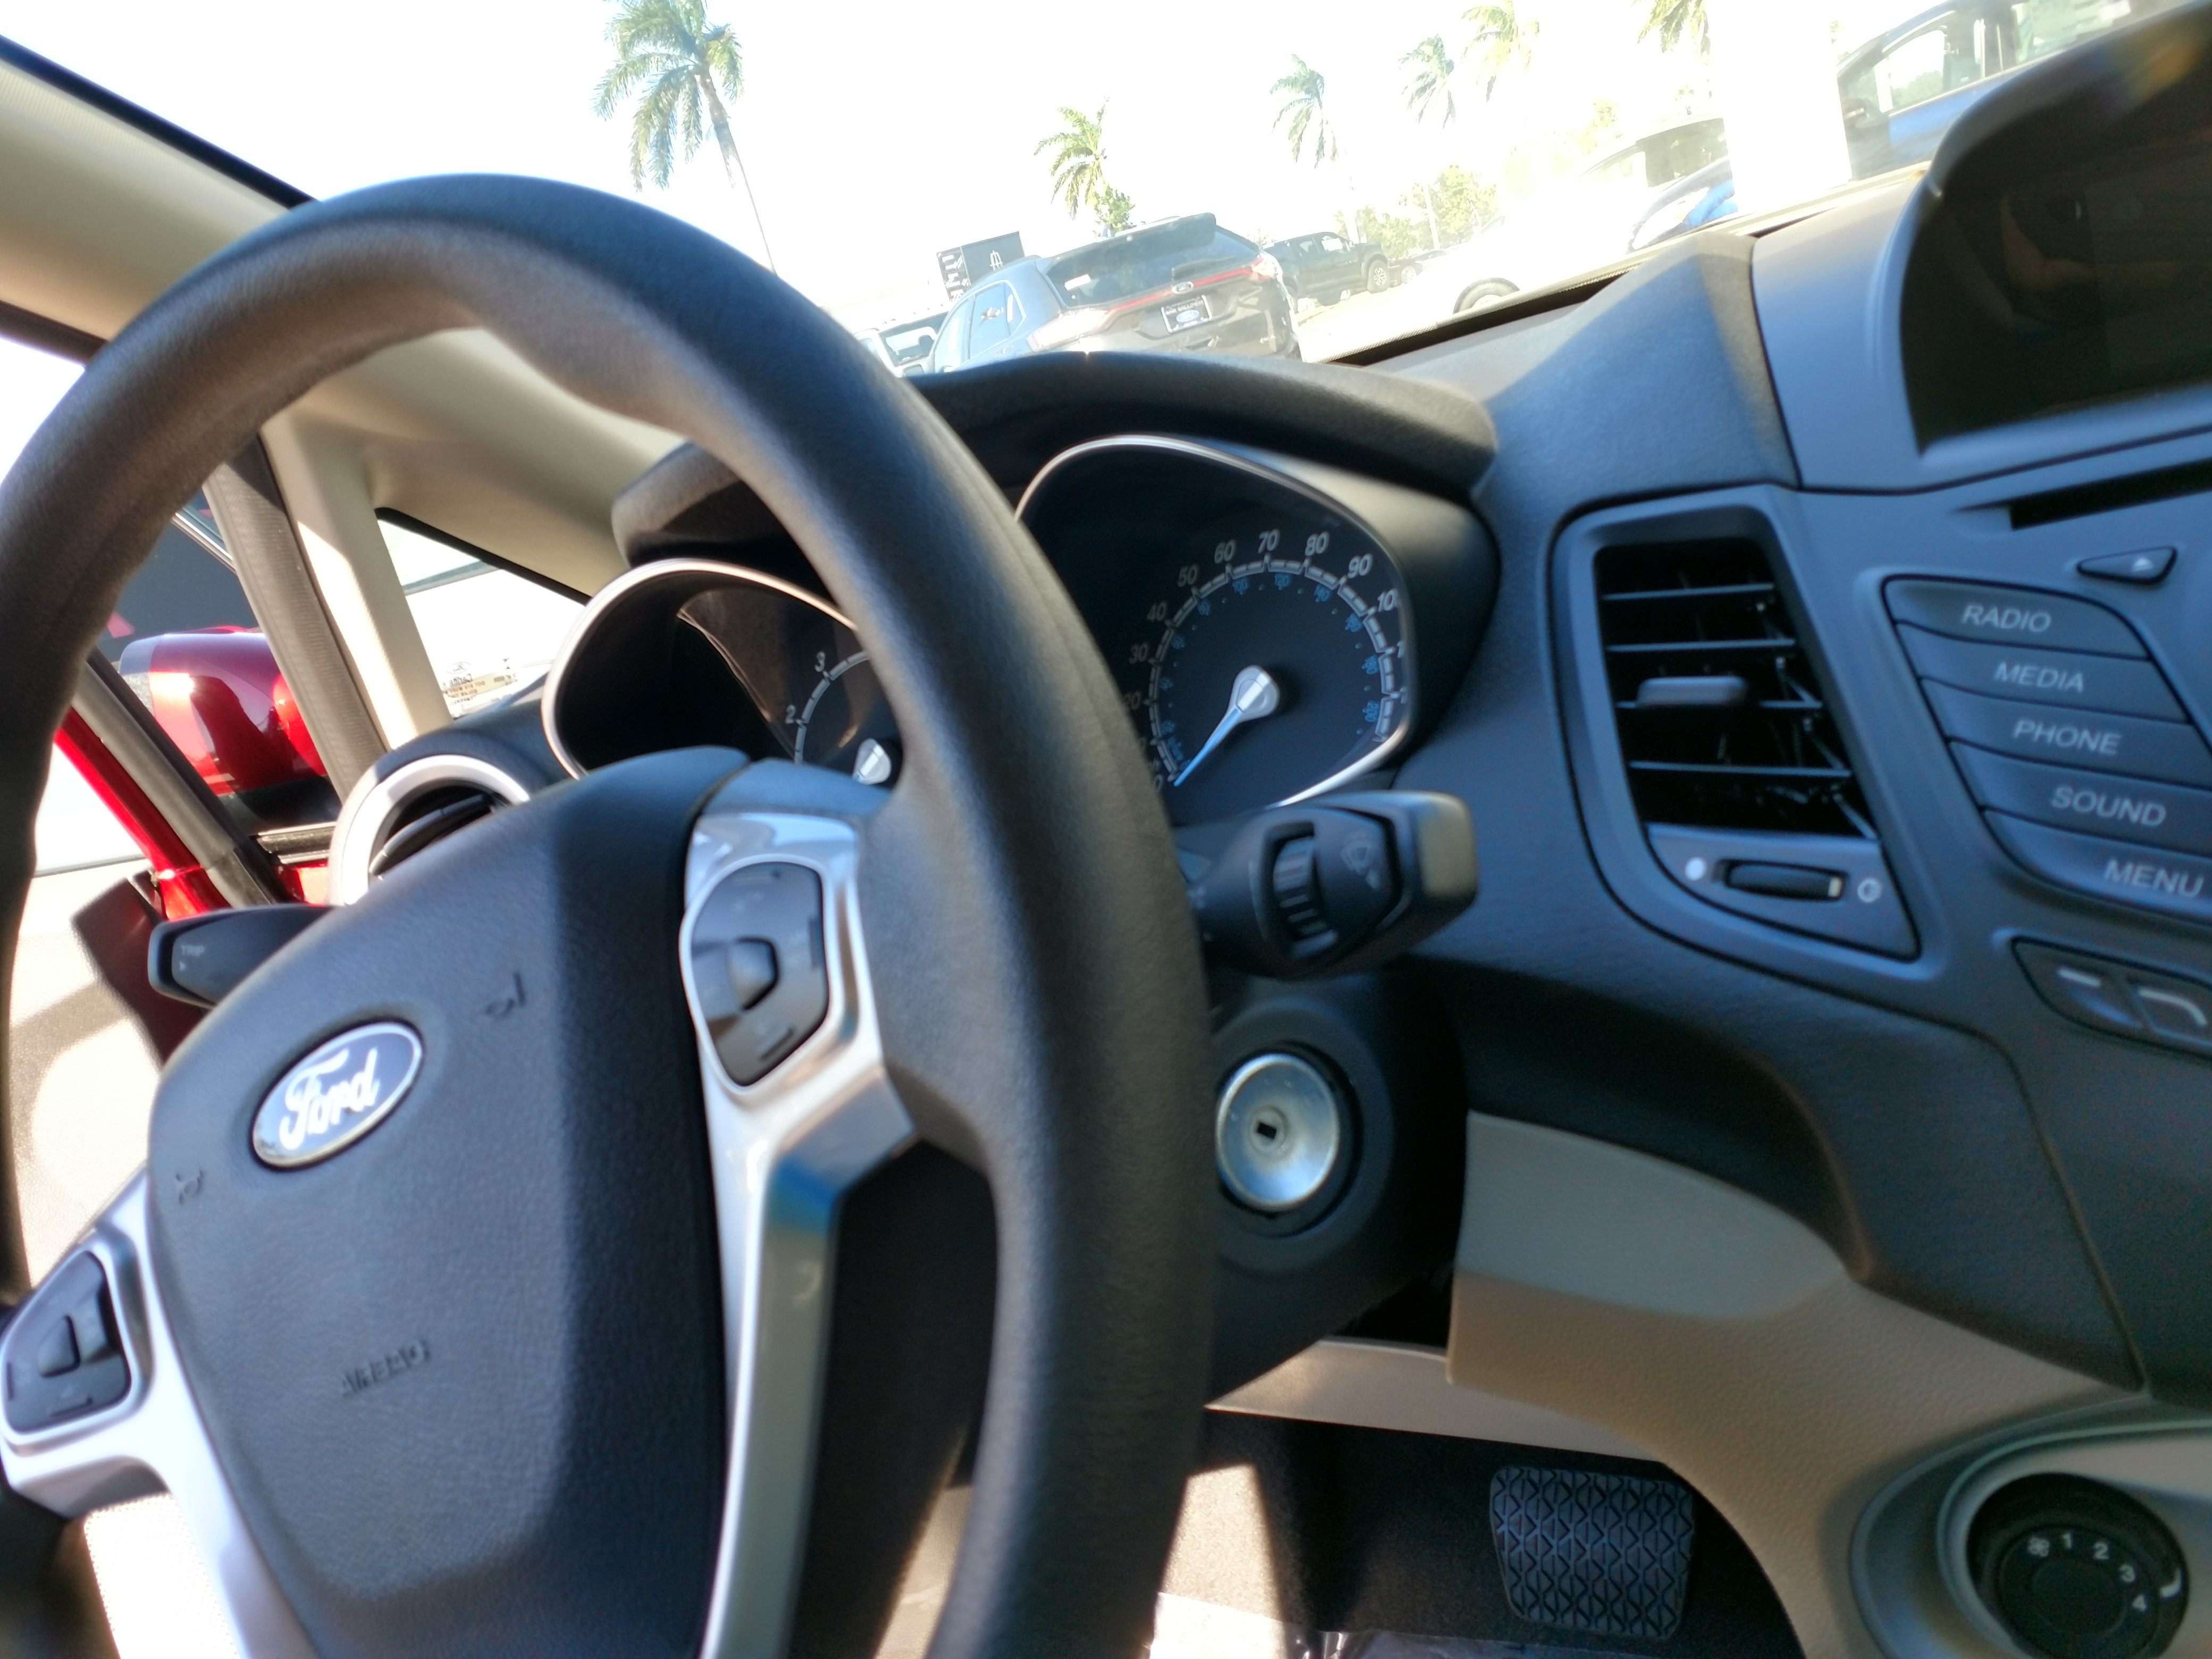Ford: (249, 1014, 423, 1180)
